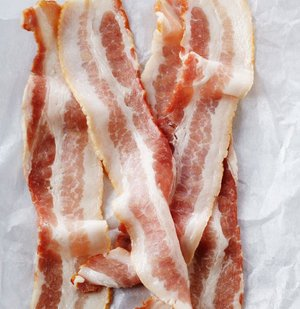bacon: (25, 12, 247, 298)
